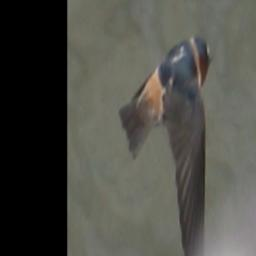Swallow: (118, 26, 214, 256)
